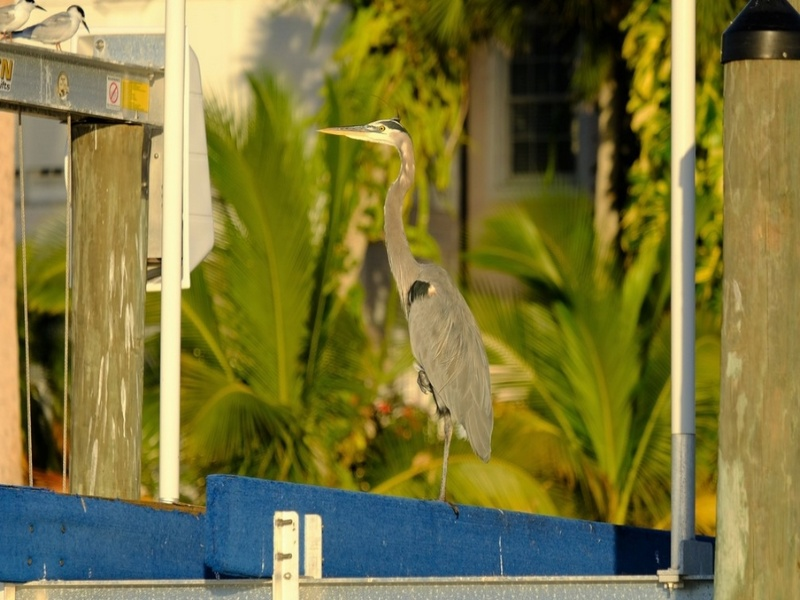heron: (314, 115, 499, 519)
